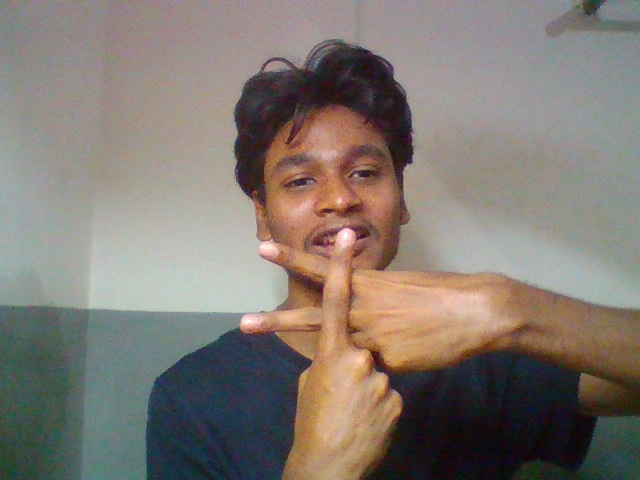K: (205, 219, 525, 463)
